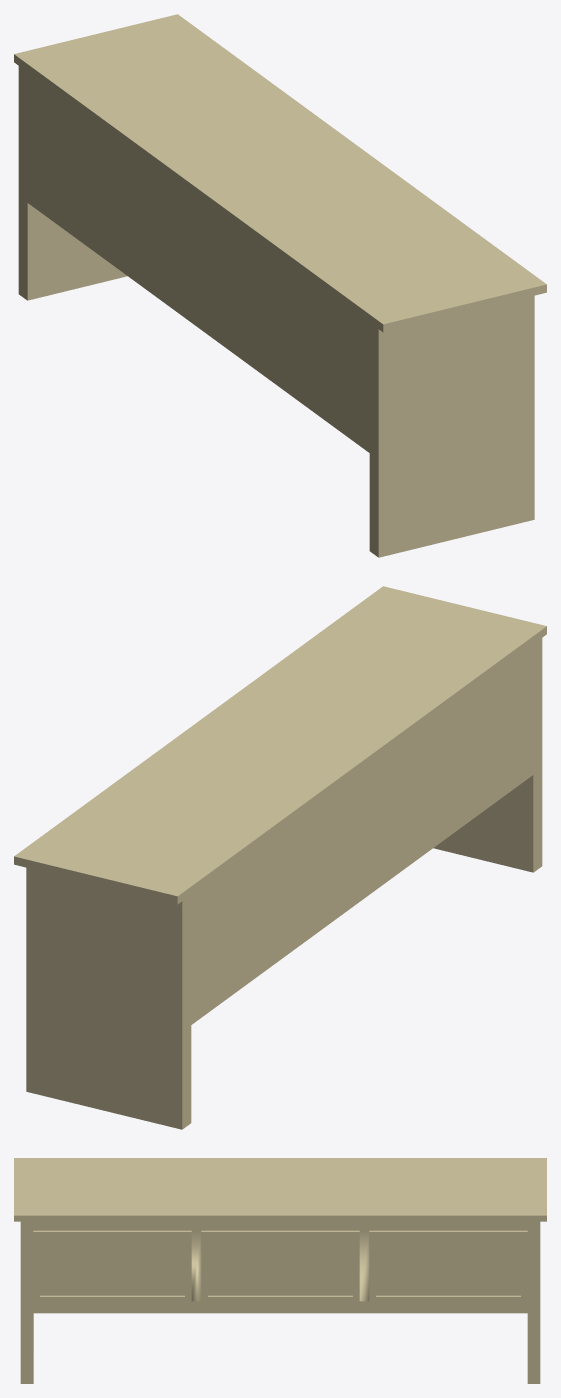
The picture shows the model from 3 angles, top to bottom: view 1: azimuth 30°, elevation 25°; view 2: azimuth 150°, elevation 25°; view 3: azimuth 270°, elevation 25°; orthographic projection. The views are drawn at different scales.
Visible parts, largest first — view 1: Mesh3_door3_Chest_Credenza1_Model; view 2: Mesh3_door3_Chest_Credenza1_Model; view 3: Mesh3_door3_Chest_Credenza1_Model.
Boxes of the visible parts, x1,y1,x2,y2 form: Mesh3_door3_Chest_Credenza1_Model: (14,14,546,557); Mesh3_door3_Chest_Credenza1_Model: (14,586,546,1129); Mesh3_door3_Chest_Credenza1_Model: (14,1158,546,1383).
Size of the model in its own units: 0.2563 by 0.354 by 1.
